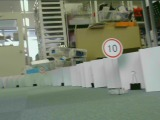speed_10: (100, 37, 124, 60)
